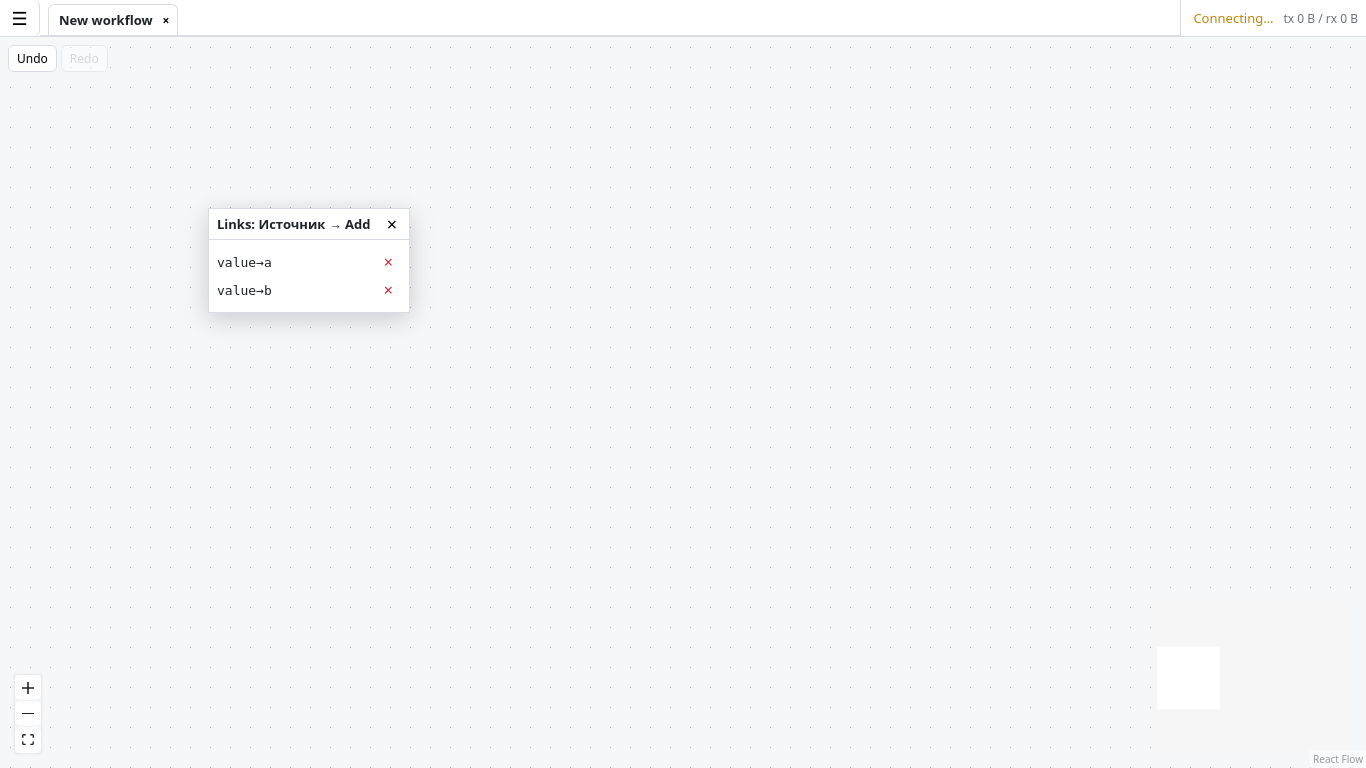
окно связей › #7: «Закрыть» и Escape закрывают окно
Click the button named "Close" at (392, 224), box [383, 215, 401, 233]
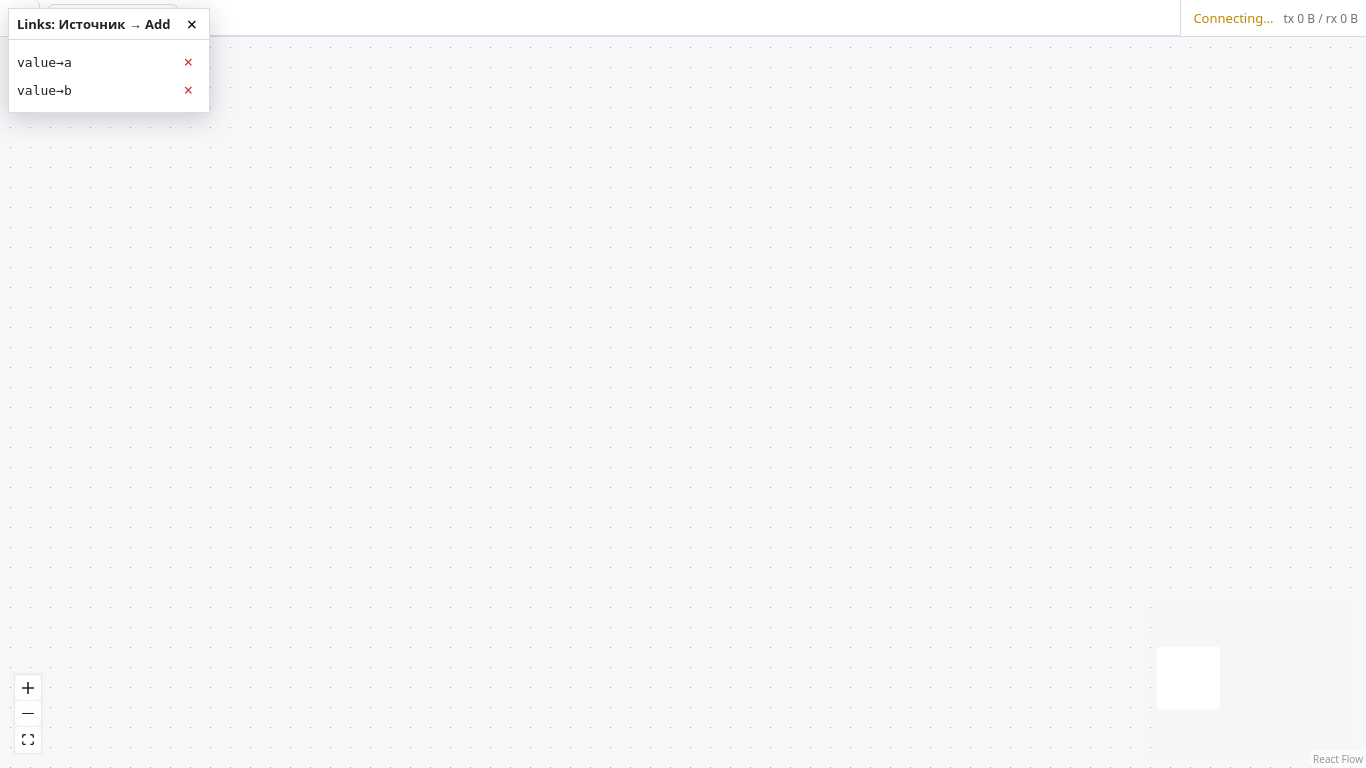
Expected: the dialog "Links: Источник → Add" is shown, [8, 8, 210, 113]
Press Escape
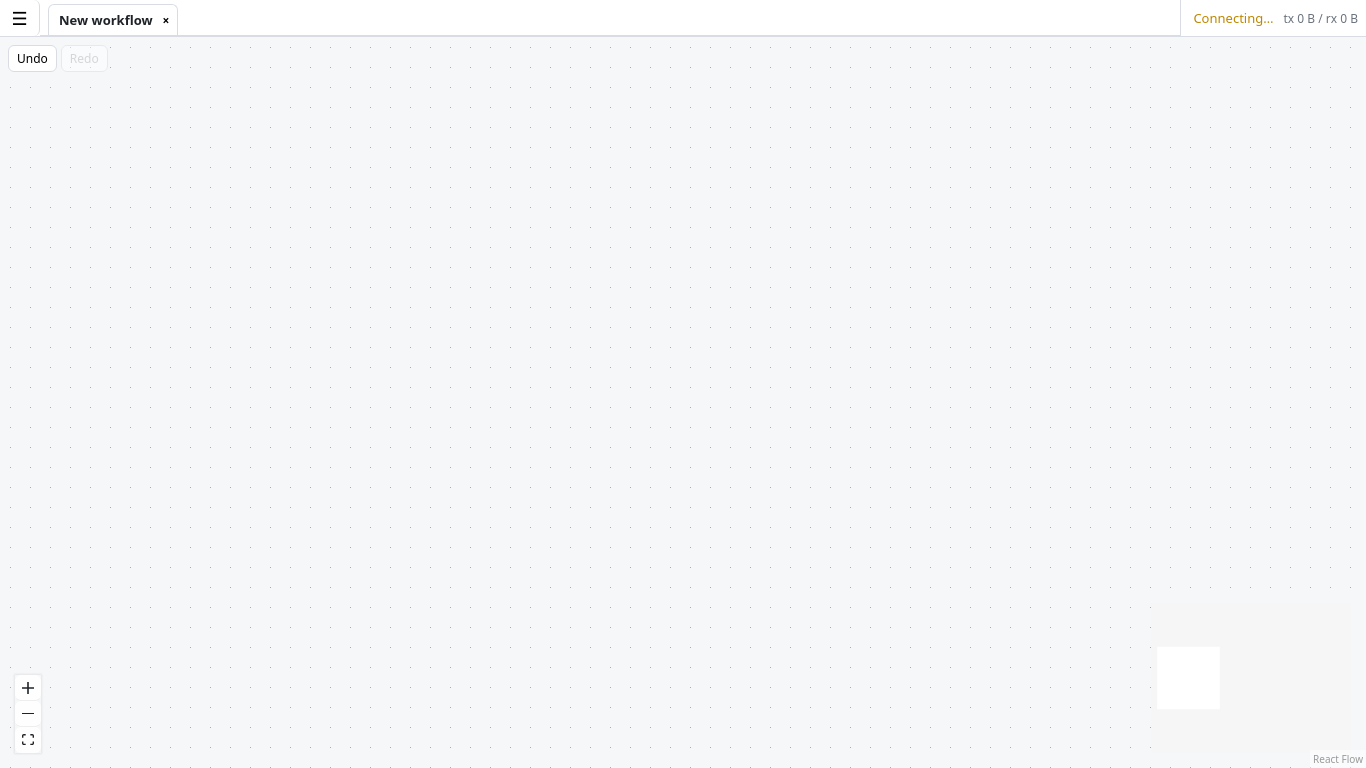
Expected: the text "Links: Источник → Add" is gone
